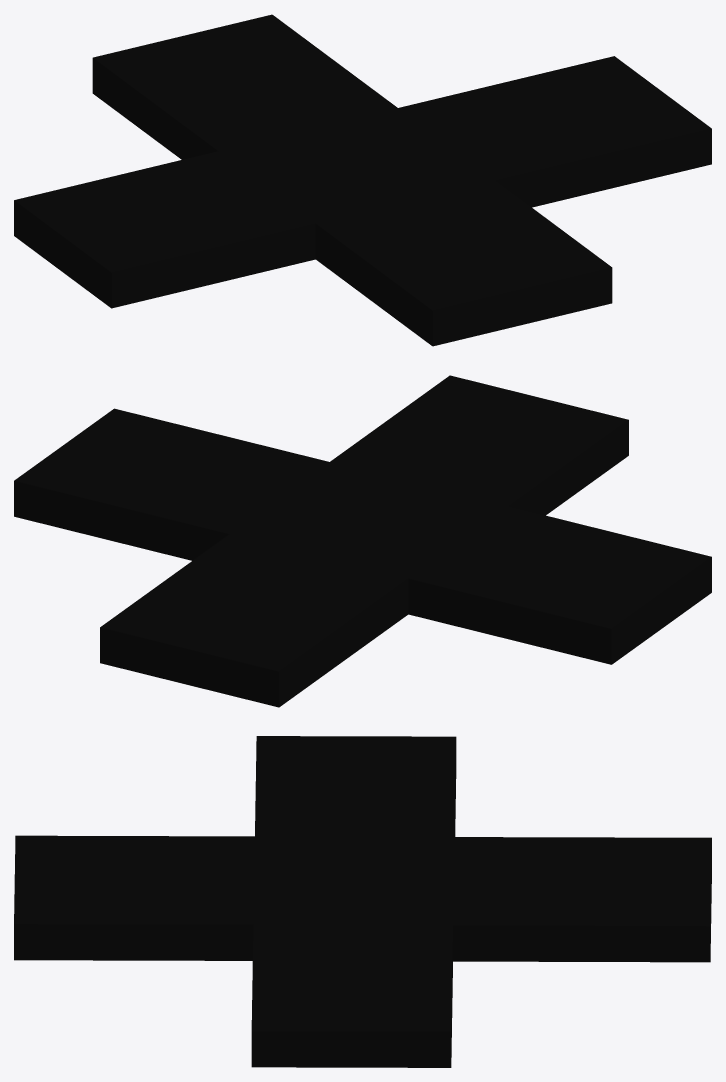
Rendered from CrossLight_Off.glb.
3 renders of one model, top to bottom at view 1: azimuth 30°, elevation 25°; view 2: azimuth 150°, elevation 25°; view 3: azimuth 270°, elevation 25°, orthographic.
Visible parts, largest first — view 1: crossLight_off; view 2: crossLight_off; view 3: crossLight_off.
Boxes of the visible parts, x1,y1,x2,y2 form: crossLight_off: (14,14,711,346); crossLight_off: (14,375,711,707); crossLight_off: (14,736,711,1067).
Size of the model in its own units: 1.06 by 0.0607 by 1.06.
1 material, 1 textured.
